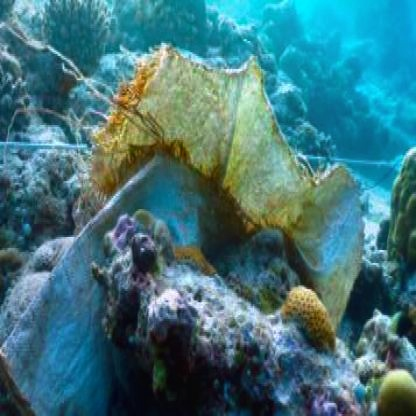plastic: (104, 30, 361, 295)
